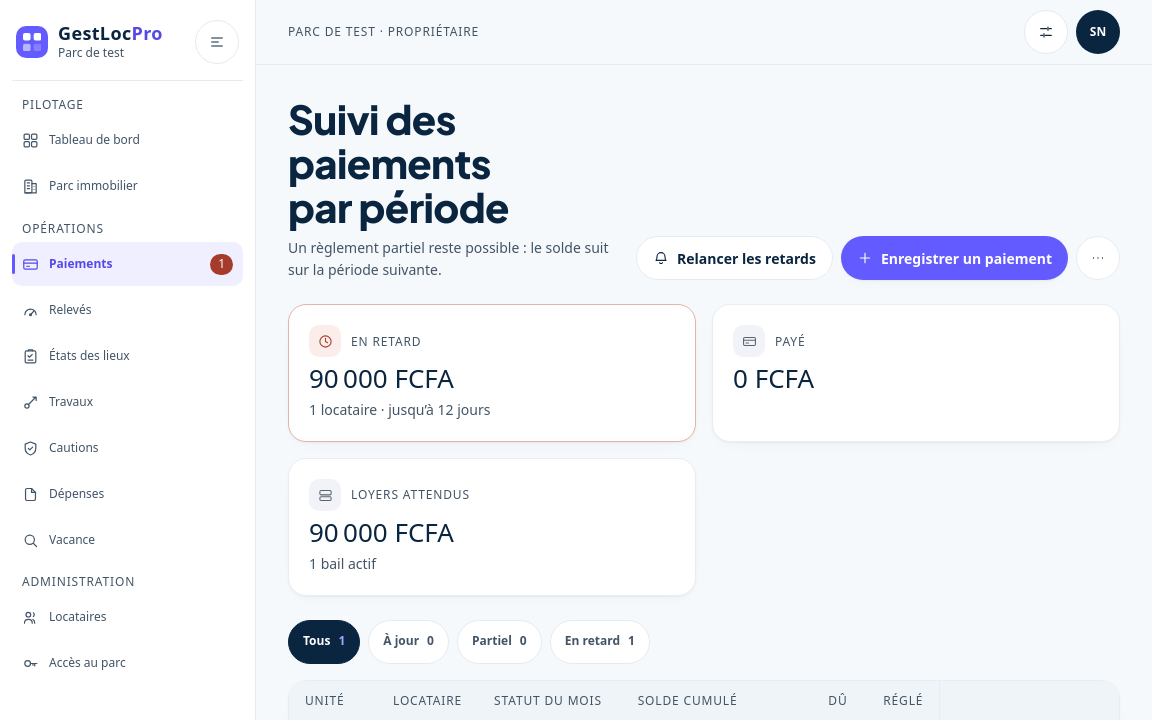
Test case: les actions d’en-tête › rend les autres atteignables par le menu, sans en perdre une
The image size is (1152, 720).
Click the button named "Autres actions" at (1098,258), box x1=1076 y1=236 x2=1120 y2=280
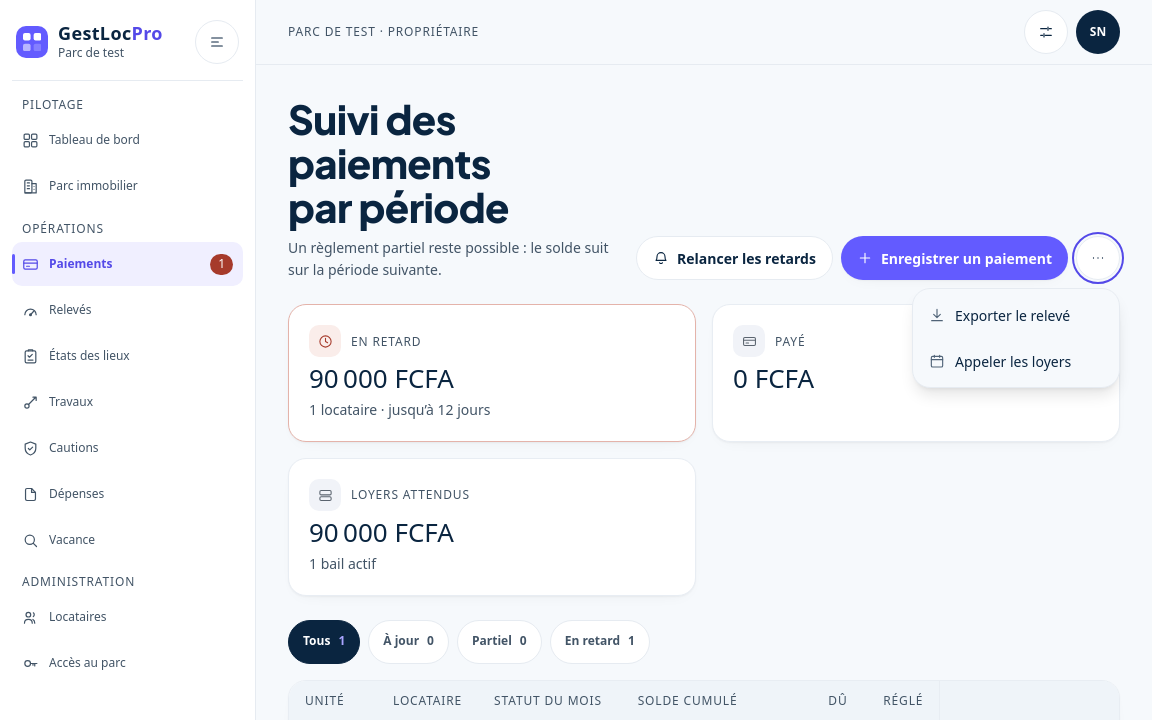
Result: the text "Exporter le relevé" is shown at x1=955 y1=306 x2=1070 y2=324
Result: the text "Appeler les loyers" is shown at x1=955 y1=352 x2=1071 y2=370
Result: the menu is shown at x1=917 y1=293 x2=1115 y2=383
